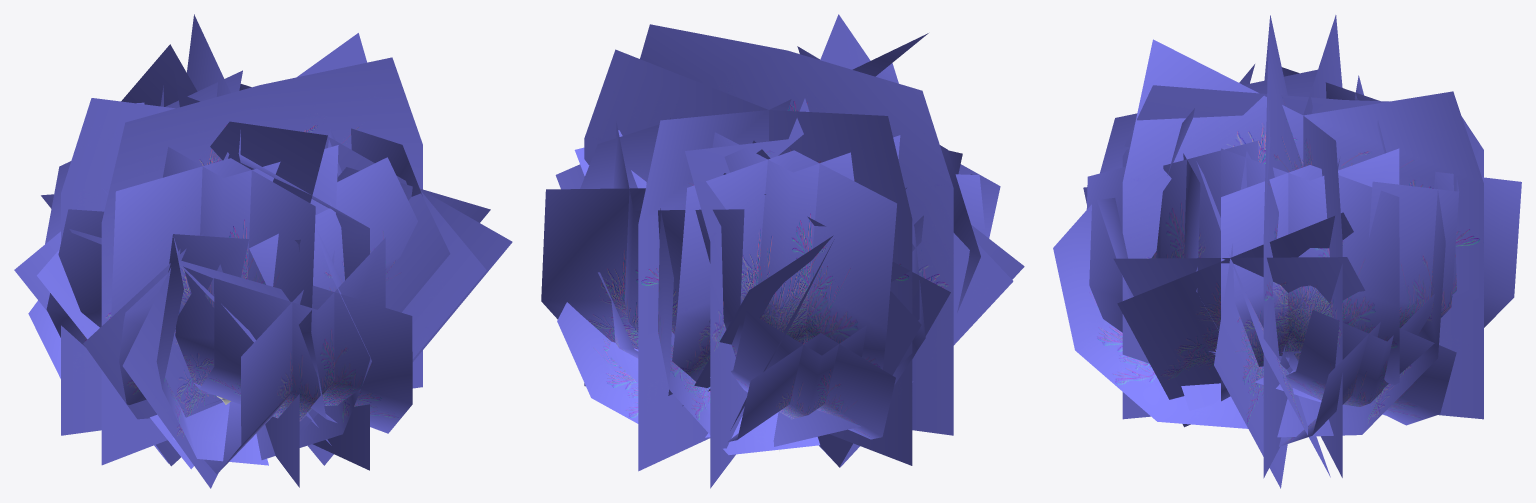
Rendered from Bush_Lavender00.fbx.
The picture shows the model from 3 angles, left to right: view 1: azimuth 30°, elevation 25°; view 2: azimuth 150°, elevation 25°; view 3: azimuth 270°, elevation 25°; orthographic projection. The views are drawn at different scales.
Visible parts, largest first — view 1: Lavender_bush12, Lavender_bush10, Lavender_bush07, Lavender_bush08, Lavender_bush02, Lavender_bush01, Lavender_bush09, Lavender_bush00, Lavender_bush11, Lavender_bush05, Lavender_bush04; view 2: Lavender_bush12, Lavender_bush05, Lavender_bush06, Lavender_bush04, Lavender_bush00, Lavender_bush03, Lavender_bush01, Lavender_bush08, Lavender_bush11, Lavender_bush07, Lavender_bush10, Lavender_bush02; view 3: Lavender_bush12, Lavender_bush02, Lavender_bush11, Lavender_bush06, Lavender_bush03, Lavender_bush09, Lavender_bush10, Lavender_bush07, Lavender_bush01, Lavender_bush05.
Part boxes in pixels (x1,y1,x2,y2): Lavender_bush12: [61, 14, 422, 487]; Lavender_bush10: [193, 237, 412, 474]; Lavender_bush07: [111, 145, 338, 422]; Lavender_bush08: [46, 209, 268, 465]; Lavender_bush02: [299, 136, 512, 465]; Lavender_bush01: [69, 152, 331, 488]; Lavender_bush09: [205, 157, 417, 459]; Lavender_bush00: [14, 194, 193, 469]; Lavender_bush11: [239, 84, 422, 196]; Lavender_bush05: [45, 70, 242, 441]; Lavender_bush04: [28, 300, 60, 378]; Lavender_bush12: [584, 14, 953, 488]; Lavender_bush05: [668, 132, 900, 395]; Lavender_bush06: [541, 121, 819, 454]; Lavender_bush04: [728, 311, 895, 441]; Lavender_bush00: [682, 140, 950, 467]; Lavender_bush03: [557, 272, 710, 437]; Lavender_bush01: [708, 174, 1024, 467]; Lavender_bush08: [773, 174, 985, 446]; Lavender_bush11: [580, 117, 682, 382]; Lavender_bush07: [797, 46, 980, 382]; Lavender_bush10: [948, 150, 1000, 238]; Lavender_bush02: [555, 130, 710, 377]; Lavender_bush12: [1122, 15, 1483, 478]; Lavender_bush02: [1113, 151, 1365, 488]; Lavender_bush11: [1221, 148, 1399, 401]; Lavender_bush06: [1213, 171, 1521, 437]; Lavender_bush03: [1279, 294, 1456, 446]; Lavender_bush09: [1086, 140, 1321, 402]; Lavender_bush10: [1053, 187, 1289, 428]; Lavender_bush07: [1100, 64, 1317, 350]; Lavender_bush01: [1181, 363, 1293, 410]; Lavender_bush05: [1282, 67, 1386, 153].
Bounding box in the file's own units: 267 × 229 × 260.
